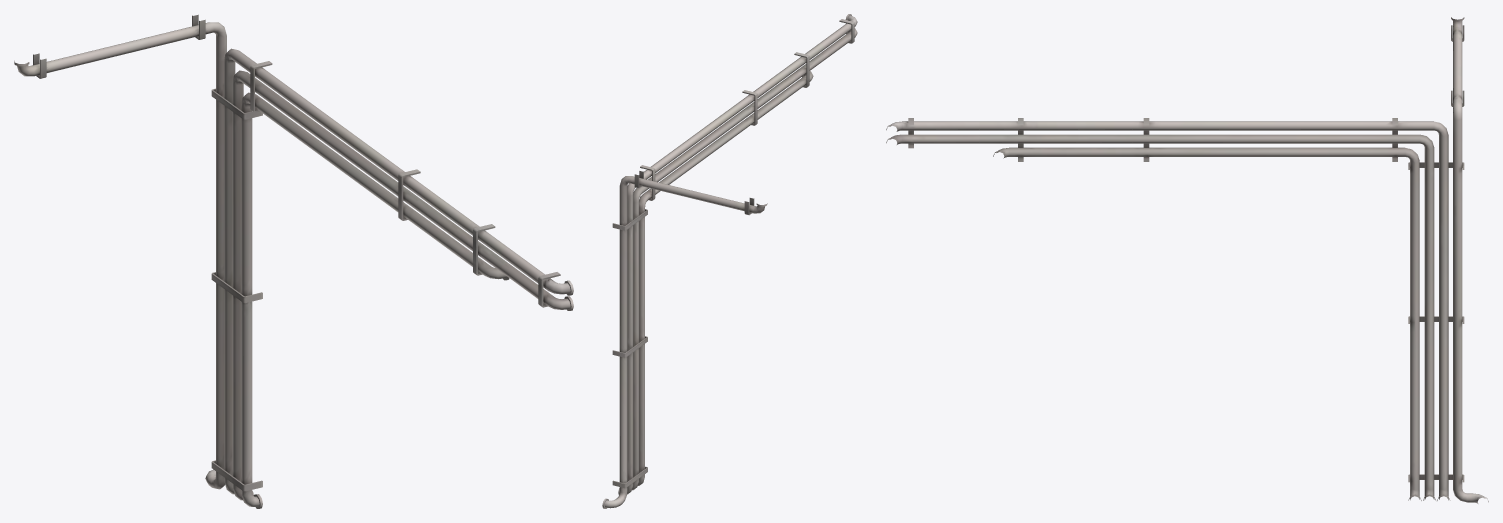
3 renders of one model, left to right at view 1: azimuth 30°, elevation 25°; view 2: azimuth 150°, elevation 25°; view 3: azimuth 270°, elevation 25°, orthographic. The views are drawn at different scales.
Visible parts, largest first — view 1: body0_model0_lod0_mesh0; view 2: body0_model0_lod0_mesh0; view 3: body0_model0_lod0_mesh0.
Part boxes in pixels (box(x1,y1,x2,y2)): body0_model0_lod0_mesh0: box(14, 14, 573, 508); body0_model0_lod0_mesh0: box(602, 14, 857, 508); body0_model0_lod0_mesh0: box(886, 17, 1488, 503).
Size of the model in its own units: 88.02 by 185 by 250.
1 material, 1 textured.
